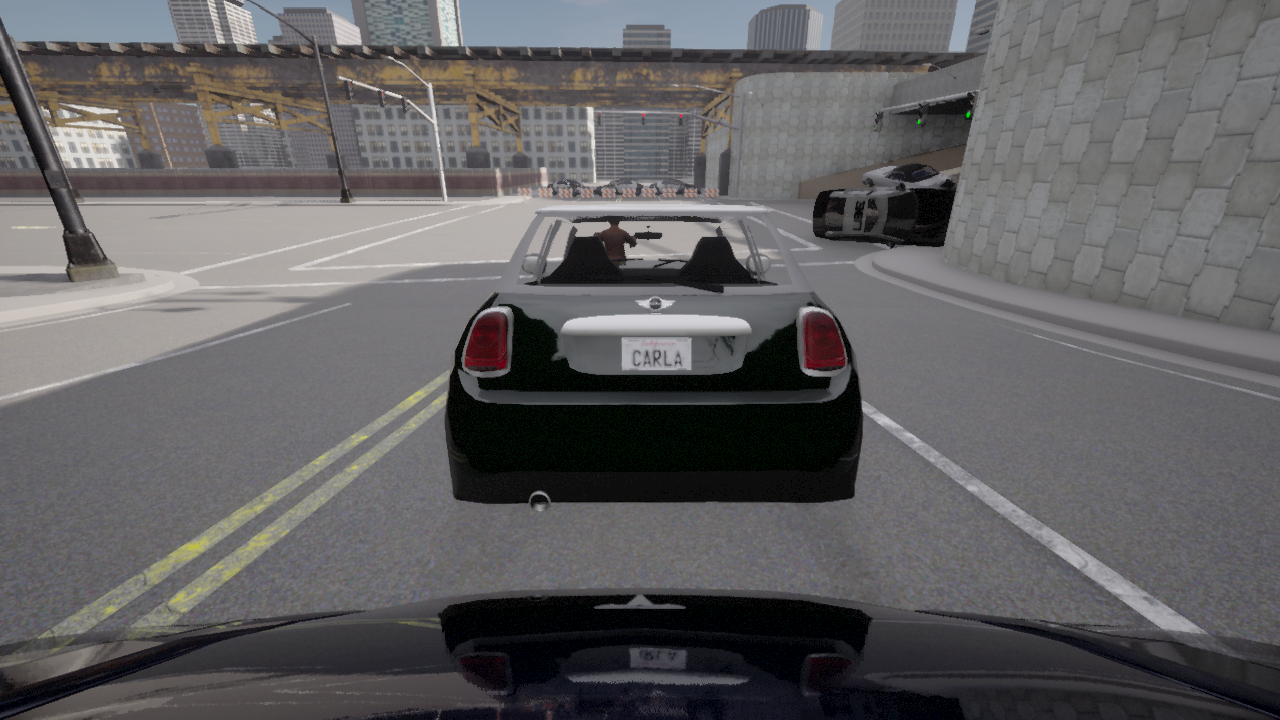cyclist: (0, 588, 1279, 719), (445, 205, 862, 511), (812, 179, 956, 248), (861, 163, 956, 187), (649, 178, 700, 195), (594, 178, 644, 195), (548, 178, 590, 196)
